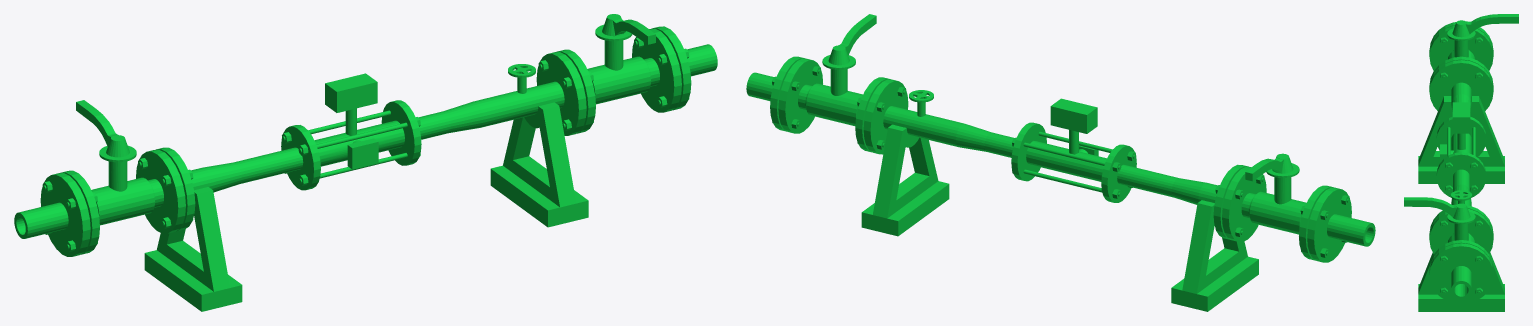
The model's file is pipeline.glb.
The picture shows the model from 3 angles, left to right: view 1: azimuth 30°, elevation 25°; view 2: azimuth 150°, elevation 25°; view 3: azimuth 270°, elevation 25°; orthographic projection. The views are drawn at different scales.
Parts seen in each view (by area): view 1: node_id3; view 2: node_id3; view 3: node_id3.
Part boxes in pixels (box(x1,y1,x2,y2)): node_id3: box(14, 14, 717, 311); node_id3: box(746, 14, 1375, 311); node_id3: box(1404, 14, 1518, 311).
Bounding box in the file's own units: 0.512 × 0.1248 × 0.0975.
Materials: 1 (1 with a texture image).
